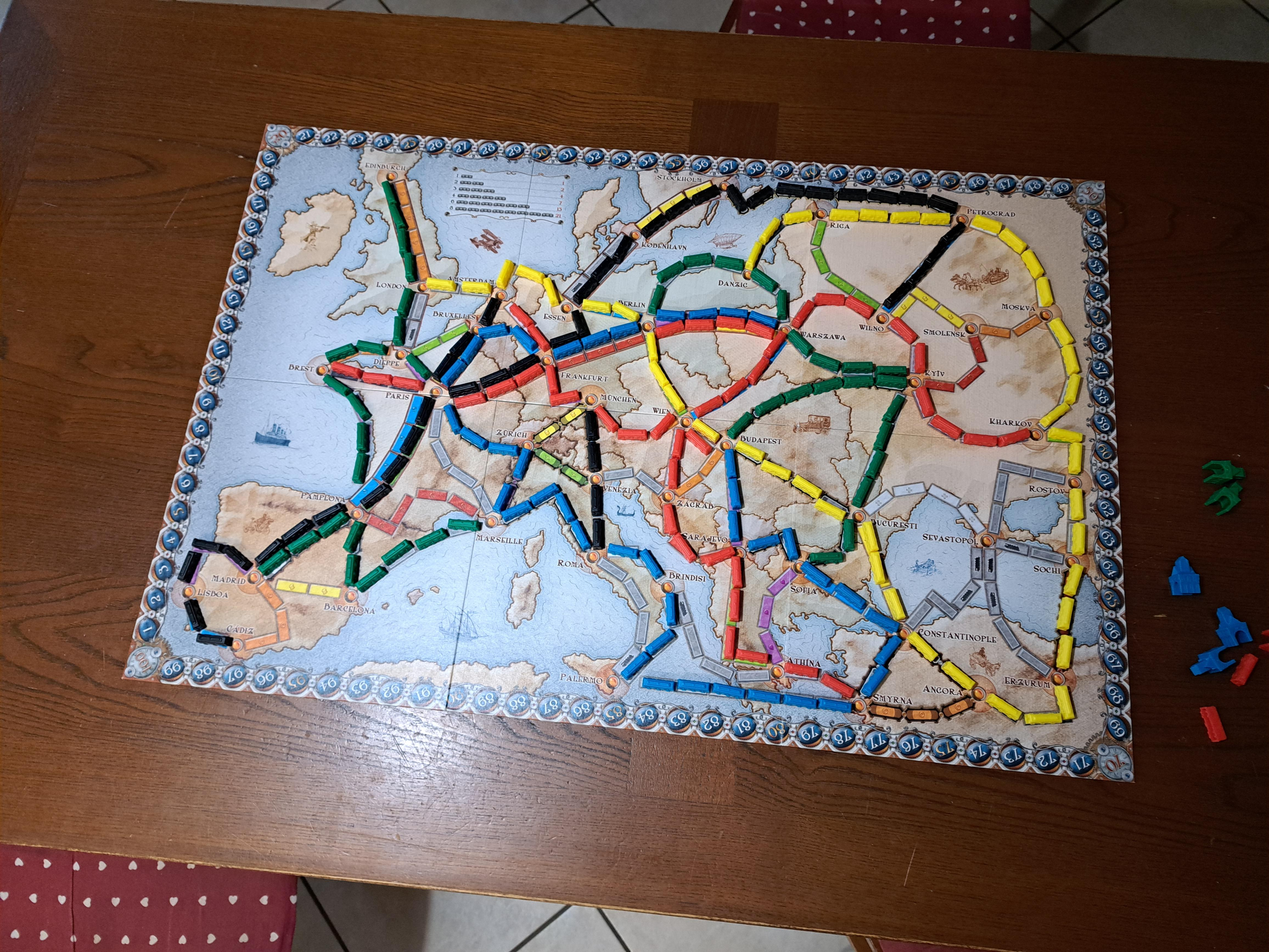corner_bl: (123, 643, 166, 681)
corner_br: (1095, 742, 1135, 783)
corner_tl: (259, 123, 294, 150)
corner_tr: (1074, 180, 1105, 206)
